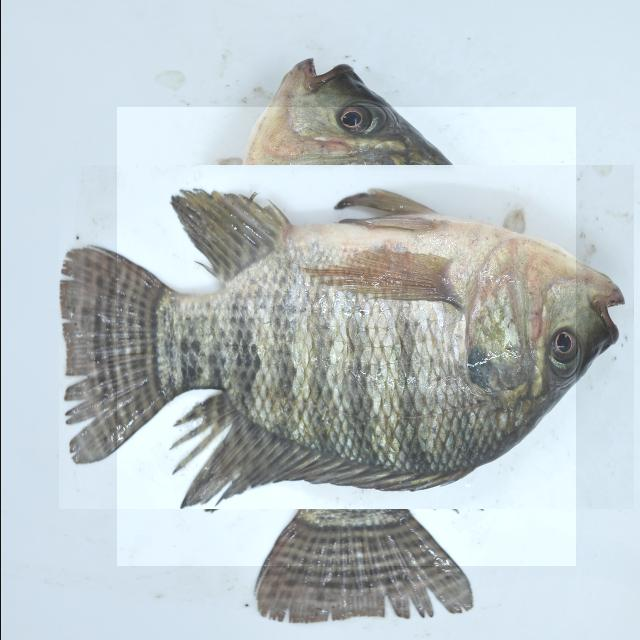Columnaris Disease: (116, 107, 575, 566)
